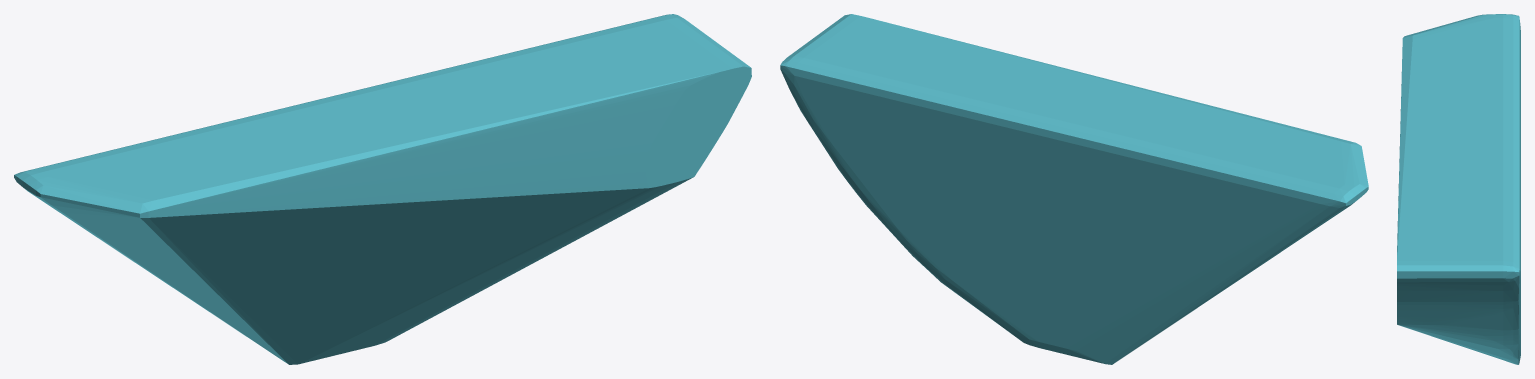
Rendered from left_shoulder_roll_link_part_2.obj.
3 views of the same model, side by side, from view 1: azimuth 30°, elevation 25°; view 2: azimuth 150°, elevation 25°; view 3: azimuth 270°, elevation 25° (orthographic). The views are drawn at different scales.
Bounding box in the file's own units: 0.0604 × 0.0228 × 0.0123.
